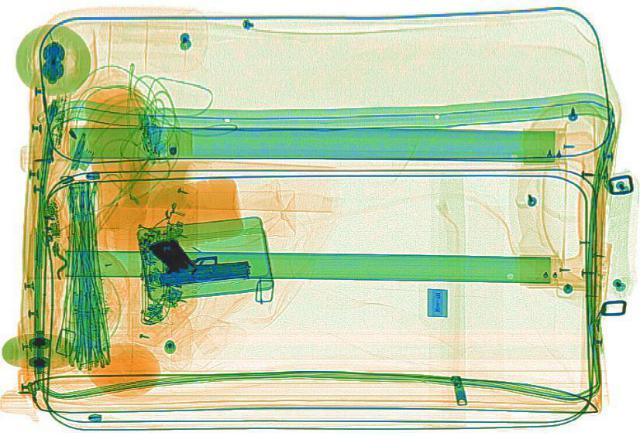Gun: (144, 230, 252, 286)
